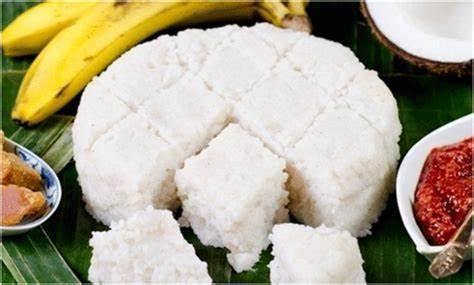Kiribath: (67, 20, 389, 283)
Lunu sambol: (401, 108, 473, 268)
